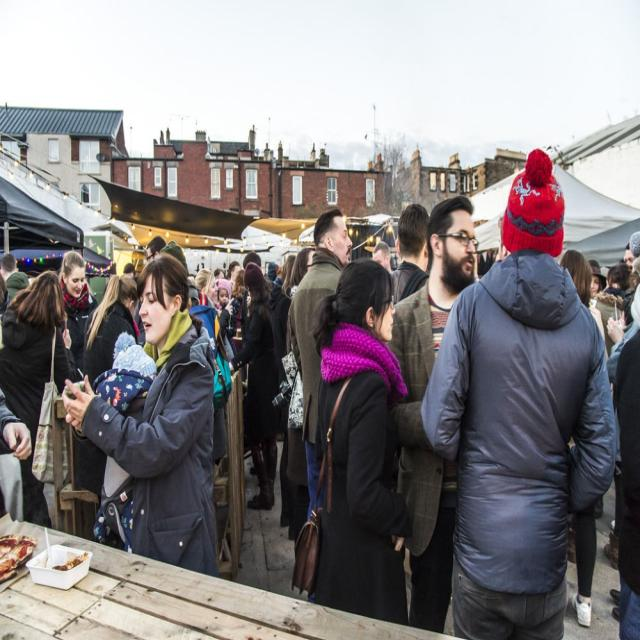body: (418, 145, 619, 639), (61, 250, 221, 578), (386, 195, 479, 635), (310, 258, 416, 628), (285, 206, 356, 604), (586, 226, 640, 640), (0, 269, 77, 531), (558, 249, 610, 627), (157, 238, 234, 465), (91, 328, 158, 556), (224, 259, 280, 512), (284, 246, 320, 563), (0, 246, 33, 550), (280, 253, 314, 543), (194, 267, 234, 478), (82, 274, 140, 388), (57, 250, 99, 379), (389, 202, 431, 306), (231, 287, 251, 397), (215, 277, 239, 362), (211, 248, 263, 287), (0, 254, 31, 304), (369, 237, 400, 280), (142, 231, 170, 269), (133, 299, 148, 346), (263, 257, 285, 289), (115, 258, 141, 280)
